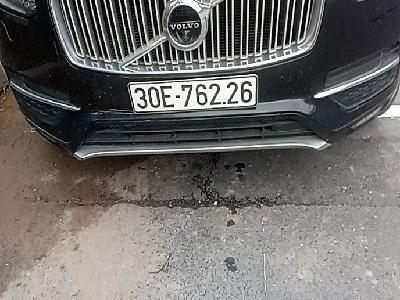car: (127, 75, 259, 114)
